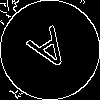A: (25, 25, 78, 82)
